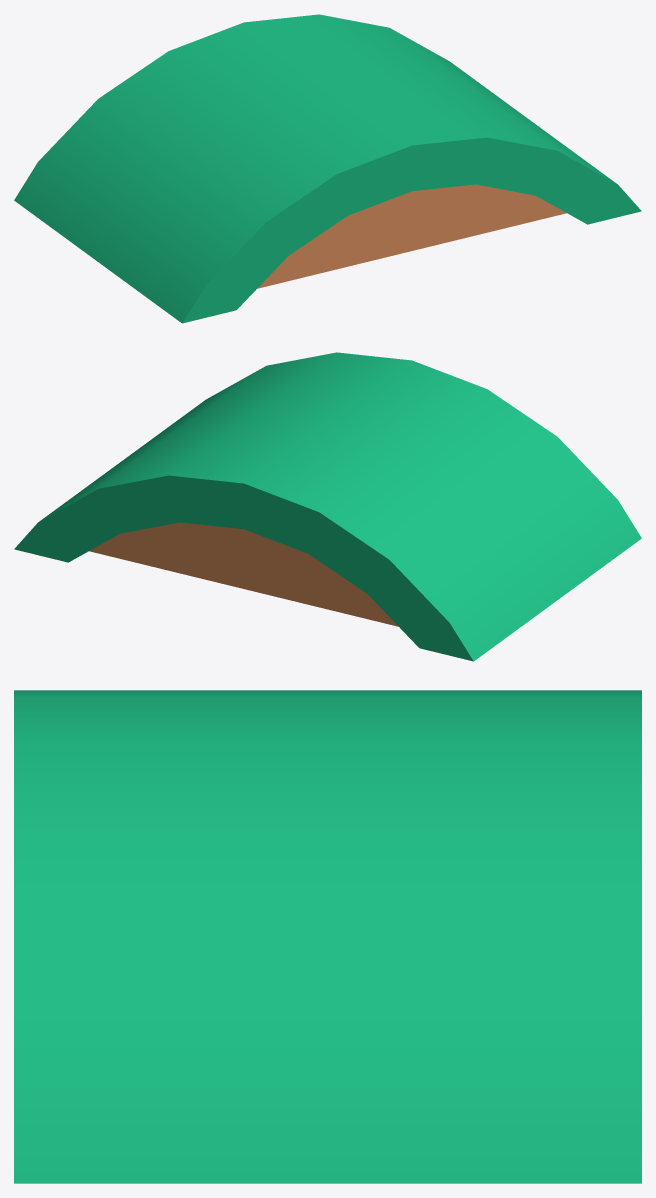
File: blockCurveLow.fbx
3 renders of one model, top to bottom at view 1: azimuth 30°, elevation 25°; view 2: azimuth 150°, elevation 25°; view 3: azimuth 270°, elevation 25°, orthographic. The views are drawn at different scales.
Parts seen in each view (by area): view 1: blockCurveLow; view 2: blockCurveLow; view 3: blockCurveLow.
Part boxes in pixels (bbox=[...]): blockCurveLow: bbox=[14, 14, 641, 323]; blockCurveLow: bbox=[14, 352, 641, 661]; blockCurveLow: bbox=[14, 690, 641, 1183].
Size of the model in its own units: 15.79 by 4 by 10.
